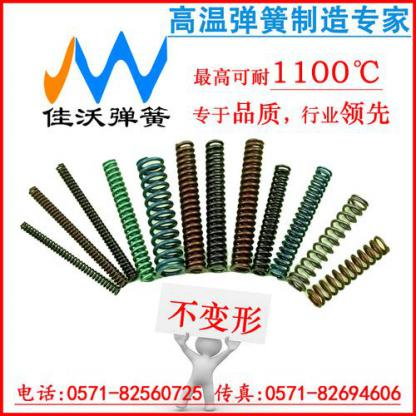FOD: (288, 193, 370, 294), (21, 220, 121, 300), (267, 163, 335, 279), (102, 155, 156, 284), (134, 154, 187, 278), (306, 232, 390, 310), (229, 137, 266, 273), (173, 138, 208, 275), (252, 162, 291, 276), (205, 136, 232, 274)
